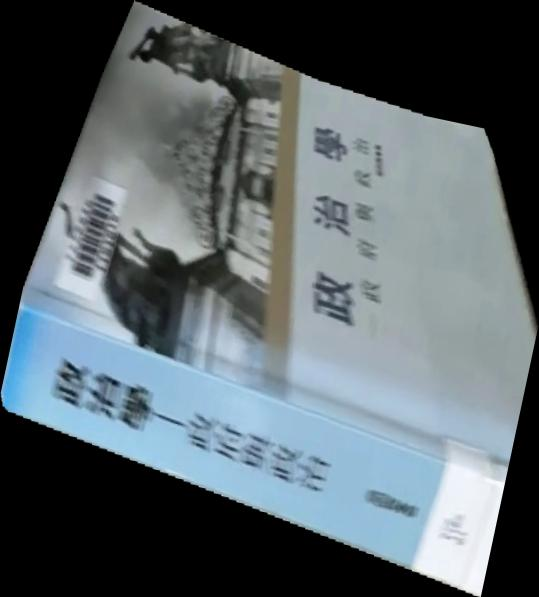flat: (1, 1, 539, 597)
